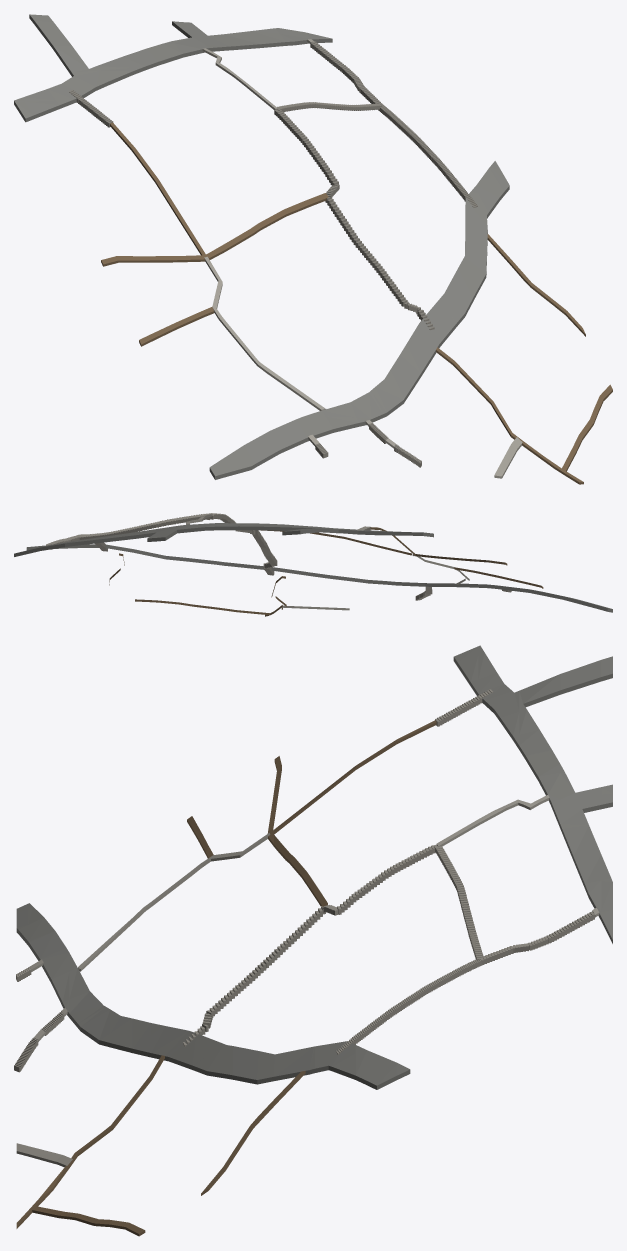
3 renders of one model, top to bottom at view 1: azimuth 30°, elevation 25°; view 2: azimuth 150°, elevation 25°; view 3: azimuth 270°, elevation 25°, orthographic. The views are drawn at different scales.
Size of the model in its own units: 147 by 110 by 146.
